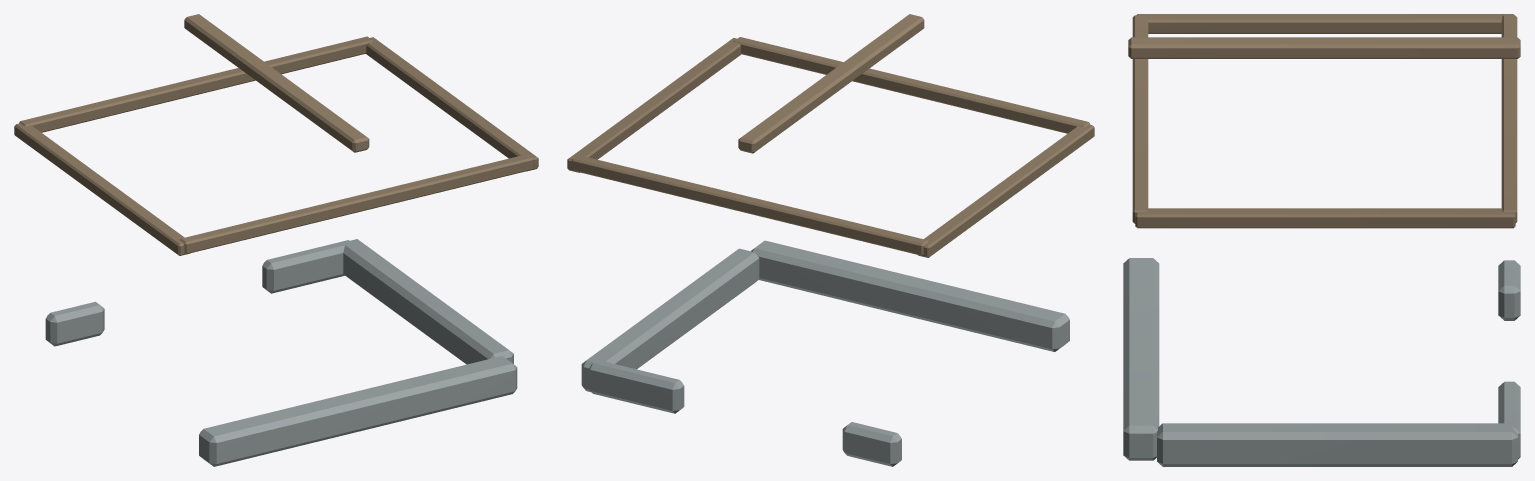
File: retreat_finish_a2_runtime.glb
3 views of the same model, side by side, from view 1: azimuth 30°, elevation 25°; view 2: azimuth 150°, elevation 25°; view 3: azimuth 270°, elevation 25° (orthographic). The views are drawn at different scales.
Parts seen in each view (by area): view 1: Finish_A2_Foundation_Back, Finish_A2_Foundation_East, Finish_A2_Gable_Tie_Back, Finish_A2_Gable_Tie_Front, Finish_A2_Ridge_Cap, Finish_A2_Eave_Joint_West, Finish_A2_Eave_Joint_East, Finish_A2_Foundation_Front_Right, Finish_A2_Foundation_Front_Left; view 2: Finish_A2_Foundation_Back, Finish_A2_Foundation_East, Finish_A2_Gable_Tie_Front, Finish_A2_Gable_Tie_Back, Finish_A2_Ridge_Cap, Finish_A2_Eave_Joint_West, Finish_A2_Eave_Joint_East, Finish_A2_Foundation_Front_Right, Finish_A2_Foundation_Front_Left; view 3: Finish_A2_Foundation_East, Finish_A2_Ridge_Cap, Finish_A2_Eave_Joint_East, Finish_A2_Foundation_Back, Finish_A2_Eave_Joint_West, Finish_A2_Gable_Tie_Back, Finish_A2_Gable_Tie_Front, Finish_A2_Foundation_Front_Left, Finish_A2_Foundation_Front_Right.
Boxes of the visible parts, bbox=[...] form: Finish_A2_Foundation_Back: bbox=[199, 356, 517, 466]; Finish_A2_Foundation_East: bbox=[342, 239, 513, 364]; Finish_A2_Gable_Tie_Back: bbox=[180, 154, 534, 254]; Finish_A2_Gable_Tie_Front: bbox=[19, 36, 373, 132]; Finish_A2_Ridge_Cap: bbox=[184, 14, 369, 152]; Finish_A2_Eave_Joint_West: bbox=[14, 123, 189, 255]; Finish_A2_Eave_Joint_East: bbox=[365, 37, 538, 171]; Finish_A2_Foundation_Front_Right: bbox=[262, 240, 351, 293]; Finish_A2_Foundation_Front_Left: bbox=[45, 301, 104, 346]; Finish_A2_Foundation_Back: bbox=[751, 240, 1069, 351]; Finish_A2_Foundation_East: bbox=[581, 248, 759, 391]; Finish_A2_Gable_Tie_Front: bbox=[572, 155, 928, 255]; Finish_A2_Gable_Tie_Back: bbox=[734, 37, 1090, 133]; Finish_A2_Ridge_Cap: bbox=[738, 14, 924, 153]; Finish_A2_Eave_Joint_West: bbox=[917, 124, 1094, 257]; Finish_A2_Eave_Joint_East: bbox=[567, 38, 741, 172]; Finish_A2_Foundation_Front_Right: bbox=[589, 360, 684, 413]; Finish_A2_Foundation_Front_Left: bbox=[842, 422, 901, 466]; Finish_A2_Foundation_East: bbox=[1157, 423, 1517, 466]; Finish_A2_Ridge_Cap: bbox=[1128, 37, 1520, 58]; Finish_A2_Eave_Joint_East: bbox=[1135, 208, 1515, 228]; Finish_A2_Foundation_Back: bbox=[1123, 258, 1159, 460]; Finish_A2_Eave_Joint_West: bbox=[1136, 14, 1514, 33]; Finish_A2_Gable_Tie_Back: bbox=[1132, 15, 1148, 223]; Finish_A2_Gable_Tie_Front: bbox=[1501, 15, 1517, 222]; Finish_A2_Foundation_Front_Left: bbox=[1498, 260, 1520, 320]; Finish_A2_Foundation_Front_Right: bbox=[1498, 381, 1520, 459].
Size of the model in its own units: 5.56 by 4.3 by 4.62.
